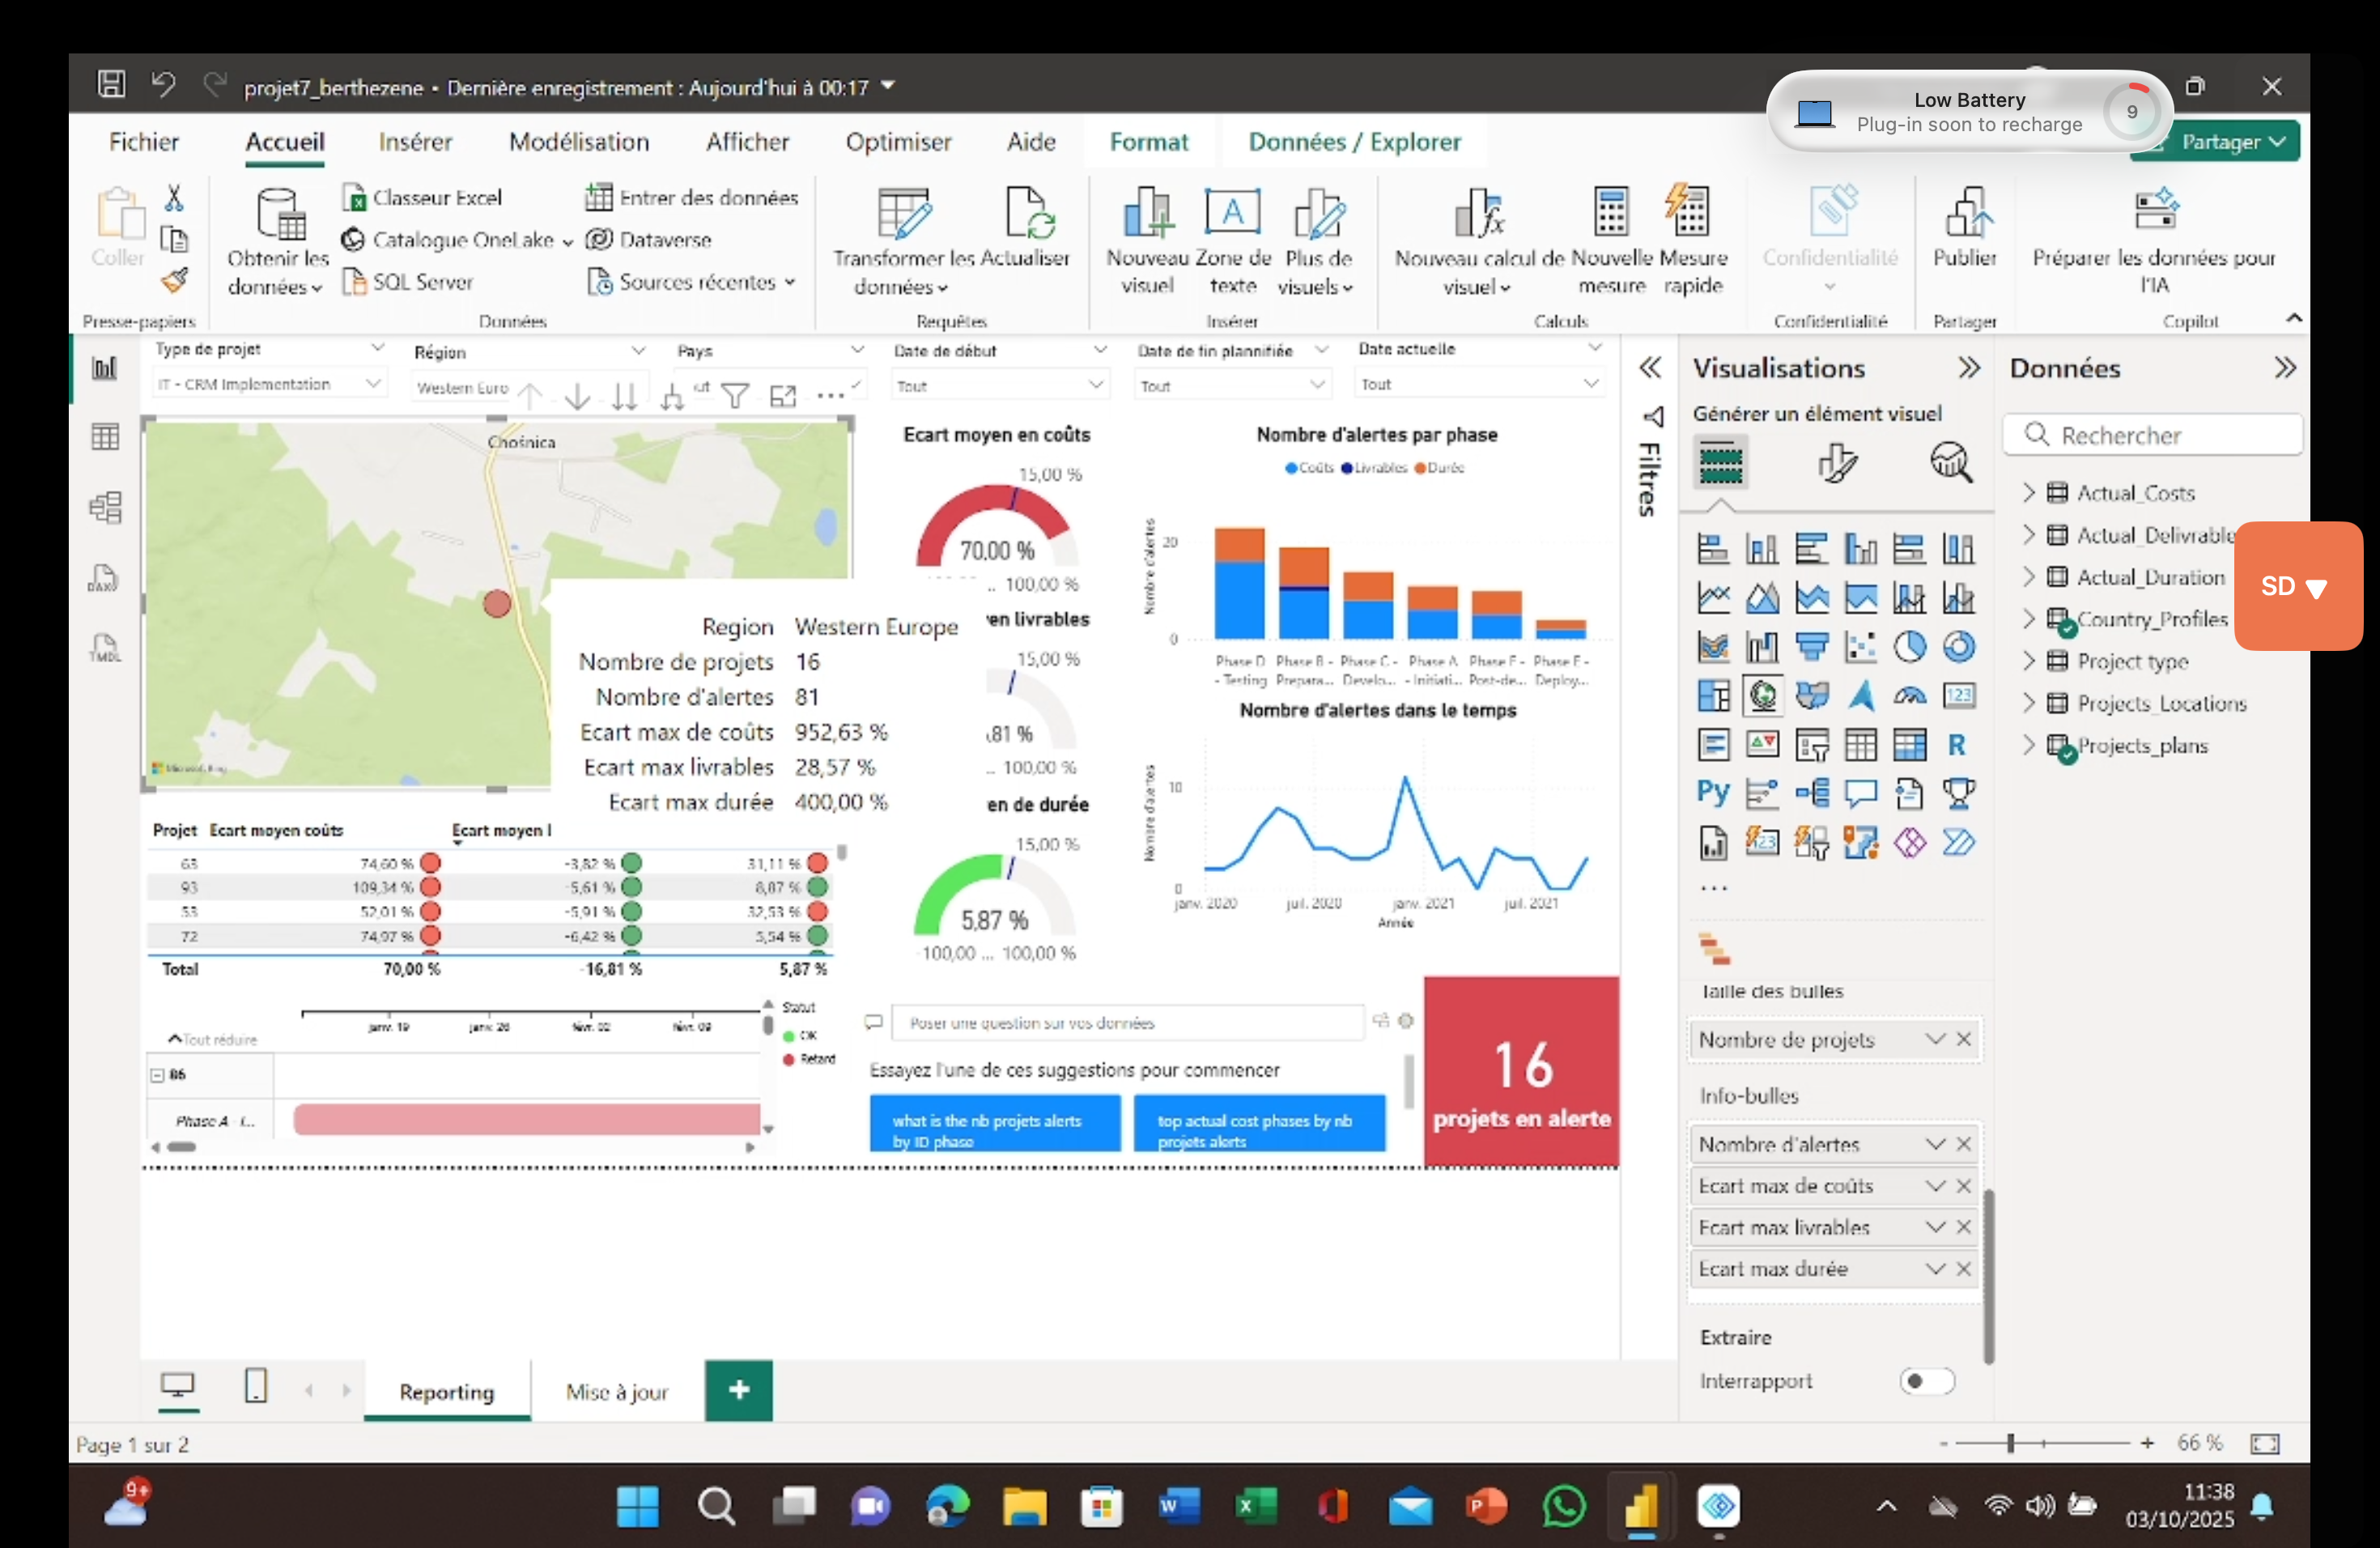

What the dashboard file says about the page in this screenshot:
{"tool":"powerbi","page":{"name":"Reporting","canvas":[1280,720],"ordinal":0},"visuals":[{"type":"lineChart","title":"Nombre d''alertes dans le temps","fields":{"Category":["Projects_plans.Start Date.Variation.Hiérarchie de dates.Année","Projects_plans.Start Date.Variation.Hiérarchie de dates.Trimestre","Projects_plans.Start Date.Variation.Hiérarchie de dates.Mois"],"Y":["Sum(Projects_plans.Total_alerts)"]},"box":[861.7,315.6,417.6,204.1],"z":0},{"type":"gauge","fields":{"Y":["Avg(Projects_plans.Gap_Costs)"]},"box":[617.4,77.4,246.3,159.5],"z":1000},{"type":"gauge","fields":{"Y":["Avg(Projects_plans.Gap_Delivrables)"]},"box":[615.8,236.8,246.3,159],"z":2000},{"type":"gauge","fields":{"Y":["Avg(Projects_plans.Gap_Duration)"]},"box":[615.8,396.3,244.7,159],"z":3000},{"type":"columnChart","title":"Nombre d''alertes par phase","fields":{"Category":["Projects_plans.Phase"],"Y":["Sum(Projects_plans.Alert_Costs)","Sum(Projects_plans.Alert_Delivrables)","Sum(Projects_plans.Alert_Durations)"]},"box":[861.7,71.8,415.8,243.8],"z":4000},{"type":"map","fields":{"Category":["Country_Profiles.Region","Country_Profiles.Country"],"Size":["CountNonNull(Projects_plans.Project ID)"]},"box":[0,71.2,616.3,324],"z":5000},{"type":"qnaVisual","box":[617.8,554.2,492.1,162],"z":6000},{"type":"card","fields":{"Values":["Projects_plans.Nb_projets_alerts"]},"box":[1110,555.8,168.9,164.2],"z":7000},{"type":"slicer","fields":{"Values":["Project type.Project Type"]},"box":[0,0,224.2,63.2],"z":8000},{"type":"slicer","fields":{"Values":["Country_Profiles.Region"]},"box":[224.2,3.2,225.8,64.7],"z":9000},{"type":"slicer","fields":{"Values":["Country_Profiles.Country"]},"box":[451.6,1.6,187.9,67.9],"z":10000},{"type":"slicer","fields":{"Values":["Projects_plans.Start Date.Variation.Hiérarchie de dates.Année","Projects_plans.Start Date.Variation.Hiérarchie de dates.Trimestre","Projects_plans.Start Date.Variation.Hiérarchie de dates.Mois"]},"box":[639.5,1.6,210,64.7],"z":11000},{"type":"slicer","fields":{"Values":["Projects_plans.End_Actual_Date.Variation.Hiérarchie de dates.Année","Projects_plans.End_Actual_Date.Variation.Hiérarchie de dates.Trimestre","Projects_plans.End_Actual_Date.Variation.Hiérarchie de dates.Mois"]},"box":[1040.5,0,236.8,66.3],"z":12000},{"type":"Gantt1448688115699","fields":{"Task":["Projects_plans.Phase"],"Parent":["Projects_plans.Project ID"],"ExtraInformation":["Projects_plans.Gap_Duration","Projects_plans.Duration_Delay"],"Legend":["Projects_plans.Duration_Dela_Status"],"EndDate":["Max(Projects_plans.Date_fin)"],"StartDate":["Projects_plans.Start Date"]},"box":[0,566.9,616.1,149.3],"z":13000},{"type":"slicer","fields":{"Values":["Projects_plans.End_Planned_Date.Variation.Hiérarchie de dates.Année","Projects_plans.End_Planned_Date.Variation.Hiérarchie de dates.Trimestre","Projects_plans.End_Planned_Date.Variation.Hiérarchie de dates.Mois"]},"box":[849.5,1.6,191.1,75.8],"z":14000},{"type":"actionButton","title":"Pays","box":[328.8,330.4,100.3,40.1],"z":15000},{"type":"actionButton","title":"Pays","box":[212.4,329.1,100.3,41.5],"z":16000},{"type":"tableEx","fields":{"Values":["Projects_plans.Project ID","Avg(Projects_plans.Gap_Costs)","Avg(Projects_plans.Gap_Delivrables)","Avg(Projects_plans.Gap_Duration)"]},"box":[0,413.4,616.3,149.9],"z":17000}]}

Visuals, with their boxes on the page's 1280x720 design canvas (x1, y1, x2, y2). These are canvas units, not pixel positions in the 2380x1548 screenshot, which may show the page scaled, cropped or inside an application window:
"Nombre d''alertes dans le temps" lineChart: locate(862, 316, 1279, 520)
gauge - Avg(Projects_plans.Gap_Costs): locate(617, 77, 864, 237)
gauge - Avg(Projects_plans.Gap_Delivrables): locate(616, 237, 862, 396)
gauge - Avg(Projects_plans.Gap_Duration): locate(616, 396, 860, 555)
"Nombre d''alertes par phase" columnChart: locate(862, 72, 1278, 316)
map - Country_Profiles.Region x Country_Profiles.Country: locate(0, 71, 616, 395)
qnaVisual: locate(618, 554, 1110, 716)
card - Projects_plans.Nb_projets_alerts: locate(1110, 556, 1279, 720)
slicer - Project type.Project Type: locate(0, 0, 224, 63)
slicer - Country_Profiles.Region: locate(224, 3, 450, 68)
slicer - Country_Profiles.Country: locate(452, 2, 640, 70)
slicer - Projects_plans.Start Date.Variation.Hiérarchie de dates.Année x Projects_plans.Start Date.Variation.Hiérarchie de dates.Trimestre: locate(640, 2, 850, 66)
slicer - Projects_plans.End_Actual_Date.Variation.Hiérarchie de dates.Année x Projects_plans.End_Actual_Date.Variation.Hiérarchie de dates.Trimestre: locate(1040, 0, 1277, 66)
Gantt1448688115699 - Projects_plans.Phase x Projects_plans.Project ID: locate(0, 567, 616, 716)
slicer - Projects_plans.End_Planned_Date.Variation.Hiérarchie de dates.Année x Projects_plans.End_Planned_Date.Variation.Hiérarchie de dates.Trimestre: locate(850, 2, 1041, 77)
"Pays" actionButton: locate(329, 330, 429, 370)
"Pays" actionButton: locate(212, 329, 313, 371)
tableEx - Projects_plans.Project ID x Avg(Projects_plans.Gap_Costs): locate(0, 413, 616, 563)
